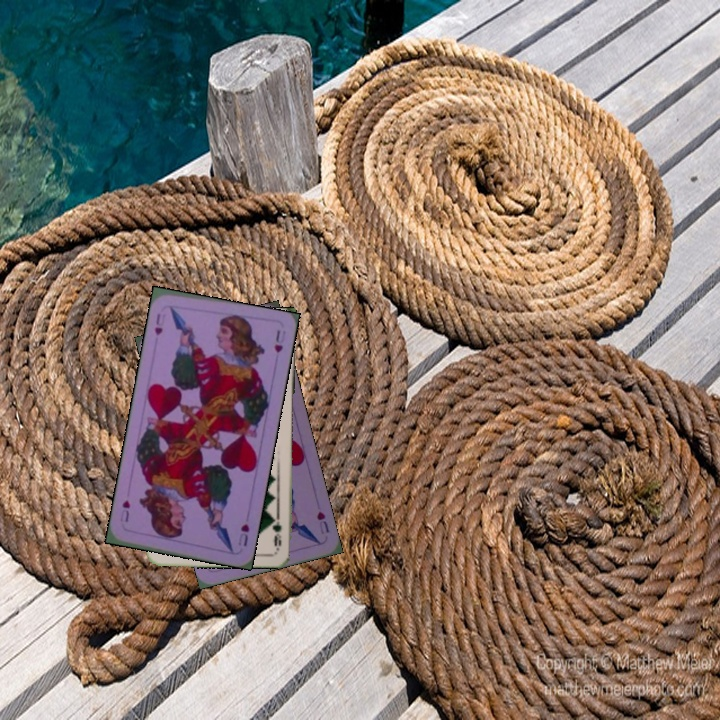G9: (270, 511, 284, 551)
HU: (313, 507, 332, 537), (234, 520, 252, 549), (150, 309, 168, 338)
